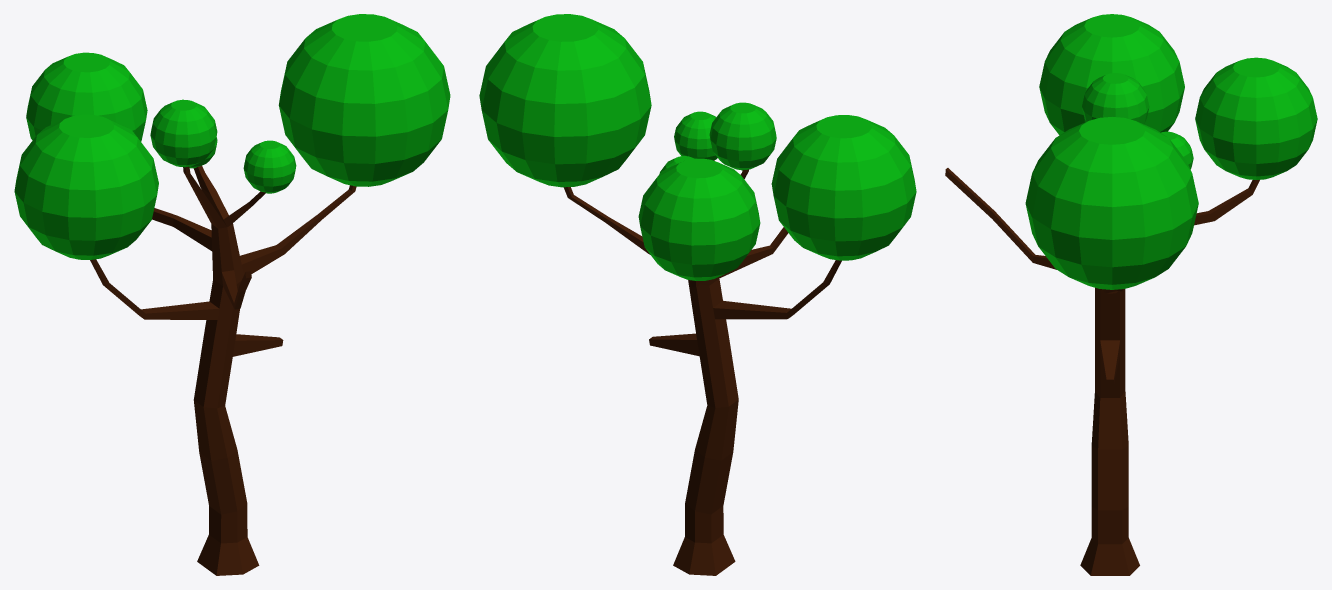
Rendered from _ree2.fbx.
The picture shows the model from 3 angles, left to right: view 1: azimuth 30°, elevation 25°; view 2: azimuth 150°, elevation 25°; view 3: azimuth 270°, elevation 25°; orthographic projection.
Parts seen in each view (by area): view 1: Leaf6, Tree, Leaf5, Leaf4, Leaf3, Leaf2; view 2: Leaf6, Leaf5, Tree, Leaf4, Leaf3, Leaf2; view 3: Leaf6, Tree, Leaf4, Leaf5, Leaf3.
Part boxes in pixels (box(x1,y1,x2,y2)): Leaf6: box(278, 14, 450, 186); Tree: box(90, 165, 356, 575); Leaf5: box(14, 114, 158, 259); Leaf4: box(26, 52, 147, 141); Leaf3: box(150, 99, 217, 167); Leaf2: box(243, 140, 296, 193); Leaf6: box(479, 14, 651, 187); Leaf5: box(771, 115, 916, 260); Tree: box(563, 160, 841, 575); Leaf4: box(638, 158, 760, 280); Leaf3: box(709, 102, 776, 170); Leaf2: box(674, 111, 717, 160); Leaf6: box(1025, 117, 1198, 289); Tree: box(945, 168, 1259, 575); Leaf4: box(1195, 57, 1317, 179); Leaf5: box(1039, 14, 1184, 135); Leaf3: box(1082, 73, 1149, 124).
Bounding box in the file's own units: 3131 × 3606 × 2426.
